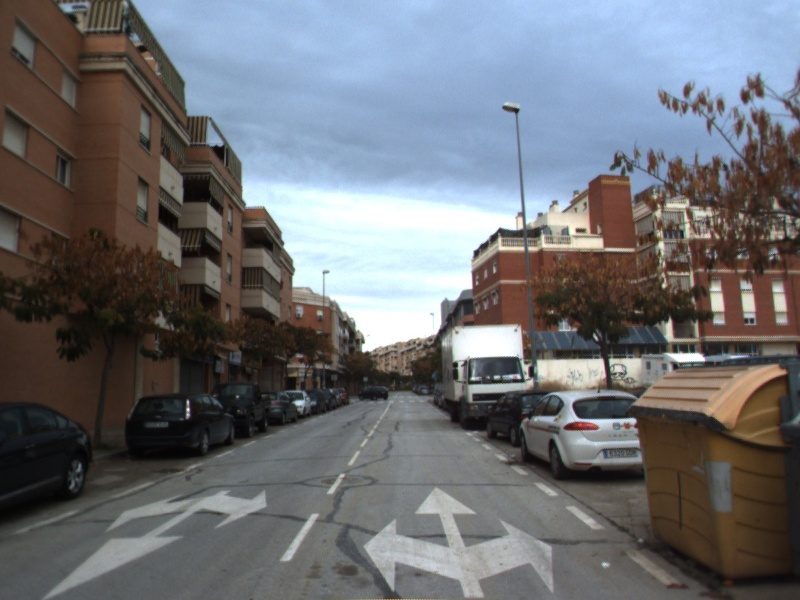STRAIGHT_LEFT_RIGHT: (361, 483, 557, 599)
